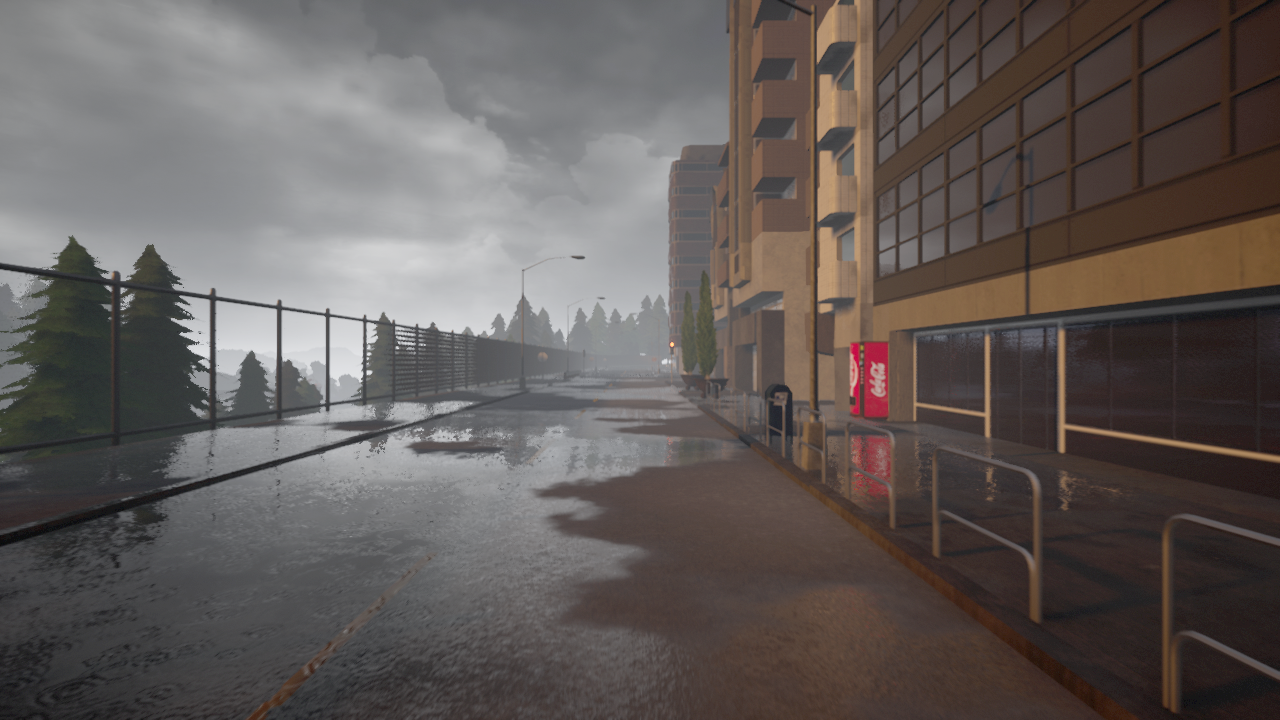red: (668, 341, 674, 356)
